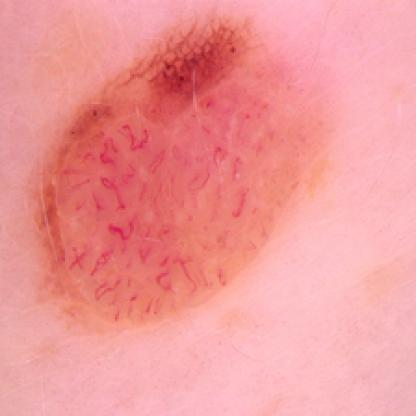benign: (28, 26, 330, 312)
